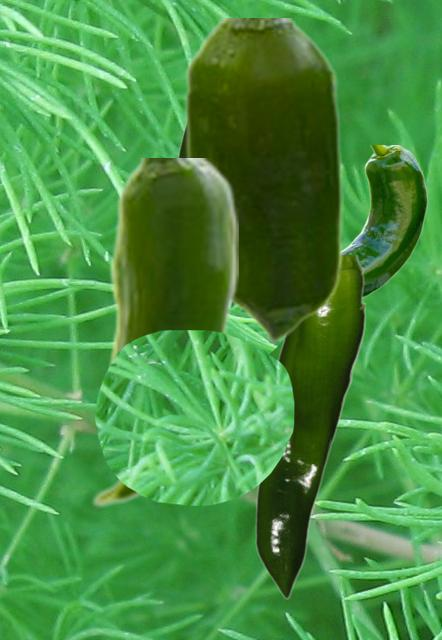green_chili: (89, 158, 237, 508), (183, 18, 342, 342), (254, 255, 364, 598), (343, 145, 427, 297)
